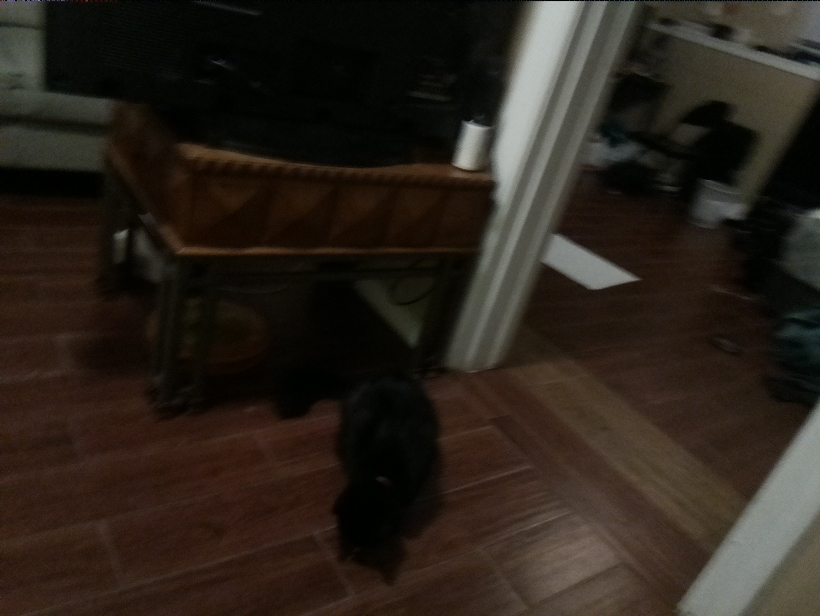cat: (316, 357, 446, 572)
